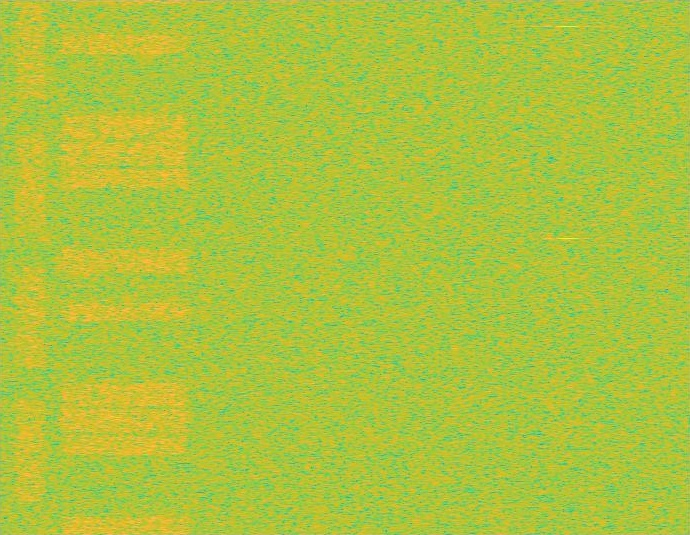5G: (14, 0, 48, 534)
LTE: (56, 0, 194, 534)
Radar: (561, 0, 575, 534)
